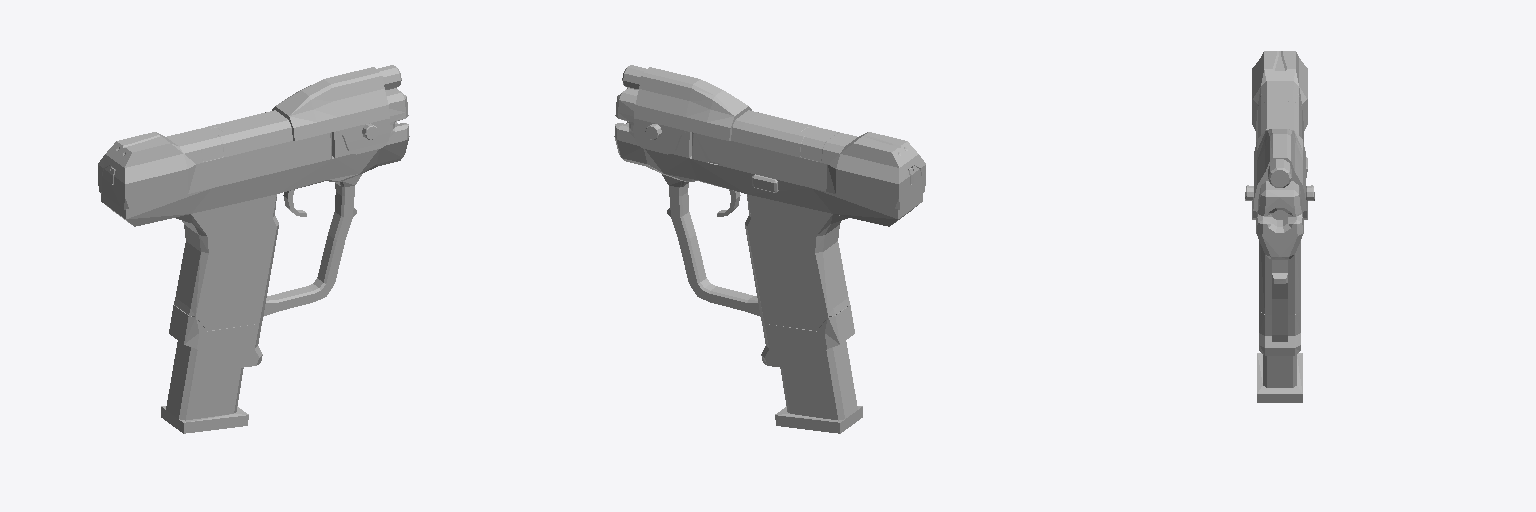
Rendered from magnum.obj.
3 views of the same model, side by side, from view 1: azimuth 30°, elevation 25°; view 2: azimuth 150°, elevation 25°; view 3: azimuth 270°, elevation 25° (orthographic).
Parts seen in each view (by area): view 1: fp_magnum; view 2: fp_magnum; view 3: fp_magnum.
Part boxes in pixels (left/top/right/bottom): fp_magnum: left=98, top=65, right=409, bottom=433; fp_magnum: left=614, top=65, right=925, bottom=433; fp_magnum: left=1245, top=51, right=1314, bottom=402.
Size of the model in its own units: 8.79 by 9.11 by 1.84.